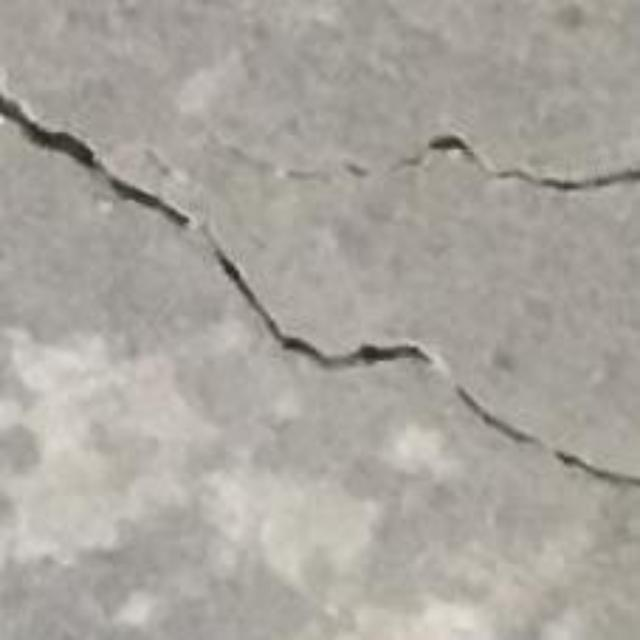crack: (0, 91, 434, 369)
